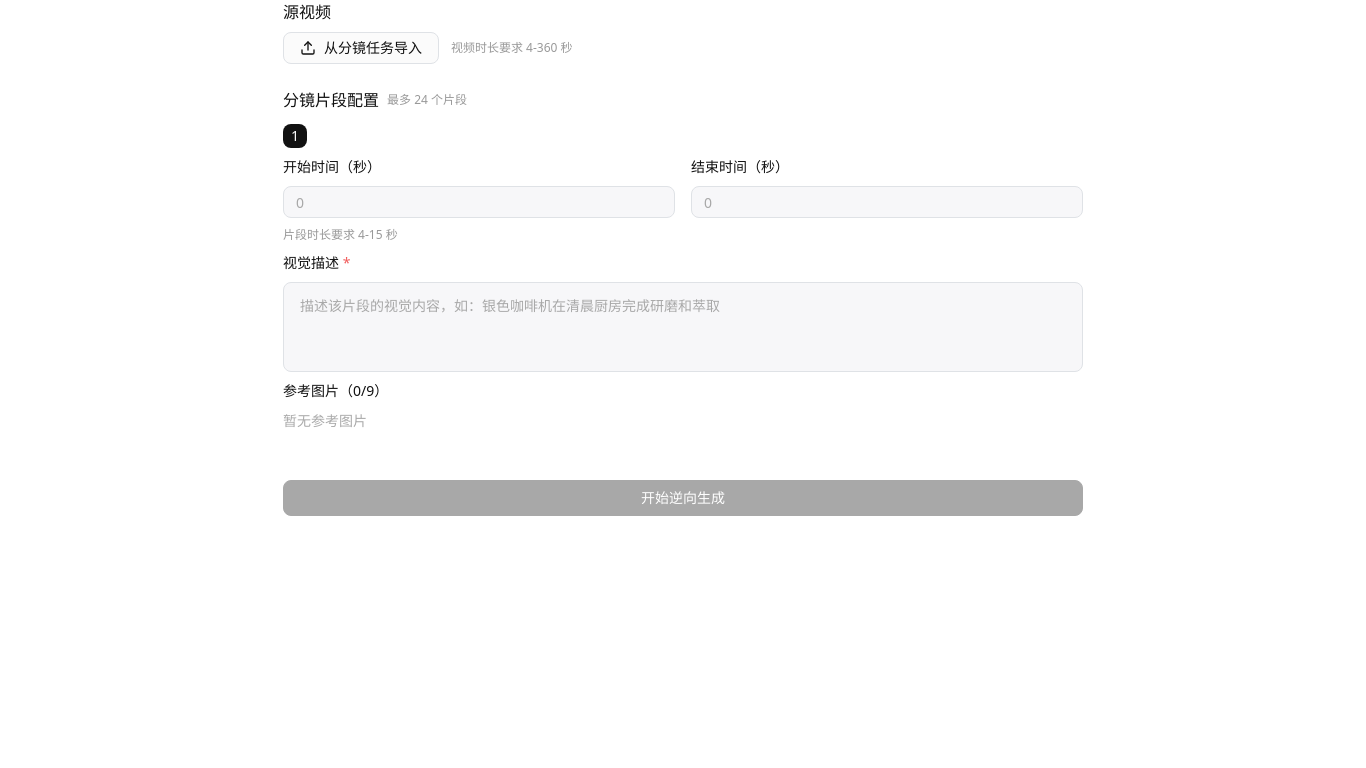
Test: video storyboard prototype › keeps generation unavailable until a storyboard is imported and preserves imported fields as read only
Expected: the button with test id "reverse-submit" is disabled, [283, 480, 1083, 516]
Submit the form, box [283, 1, 1083, 516]
Expected: the text box with test id "segment-description" is disabled, [283, 282, 1083, 372]
Click the button with test id "reverse-import-btn" at (361, 48), box [283, 32, 439, 64]
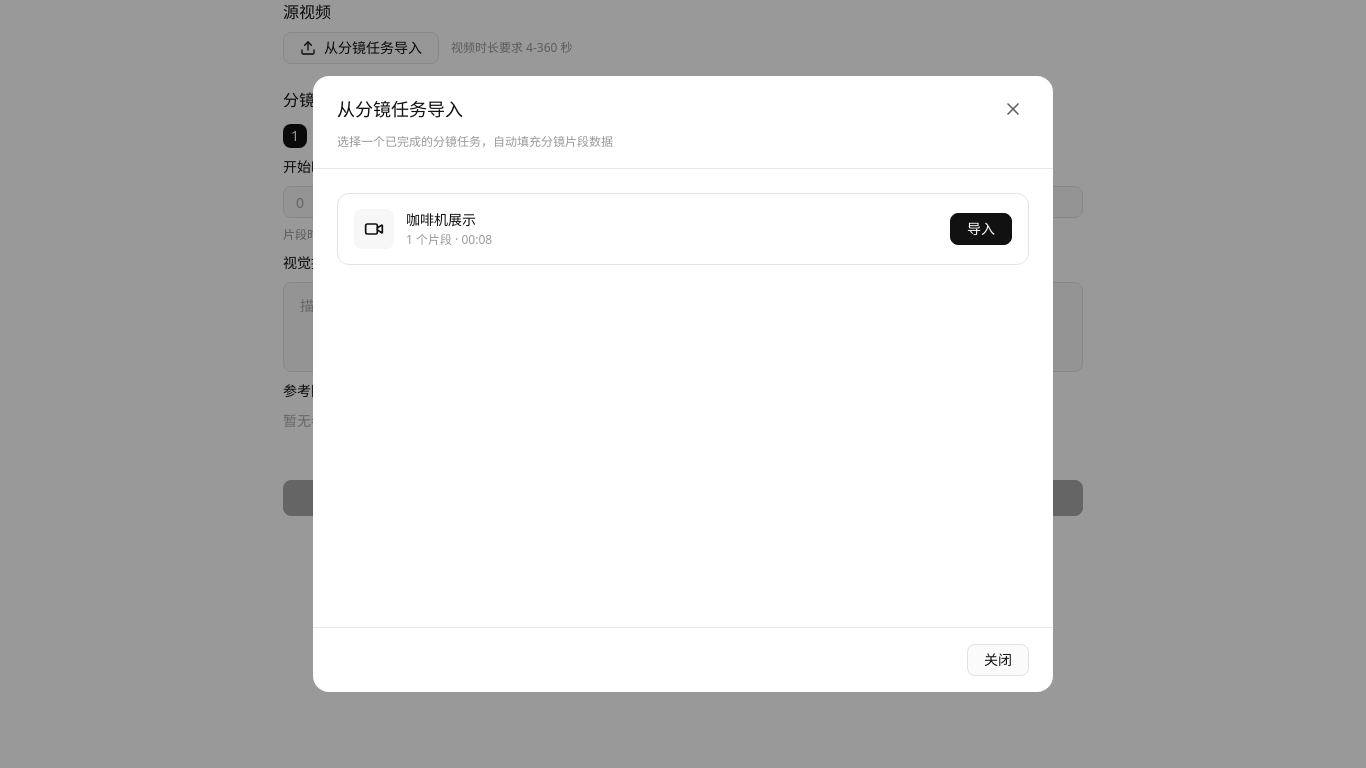
Click the button with test id "import-confirm" at (981, 229), box [950, 213, 1012, 245]
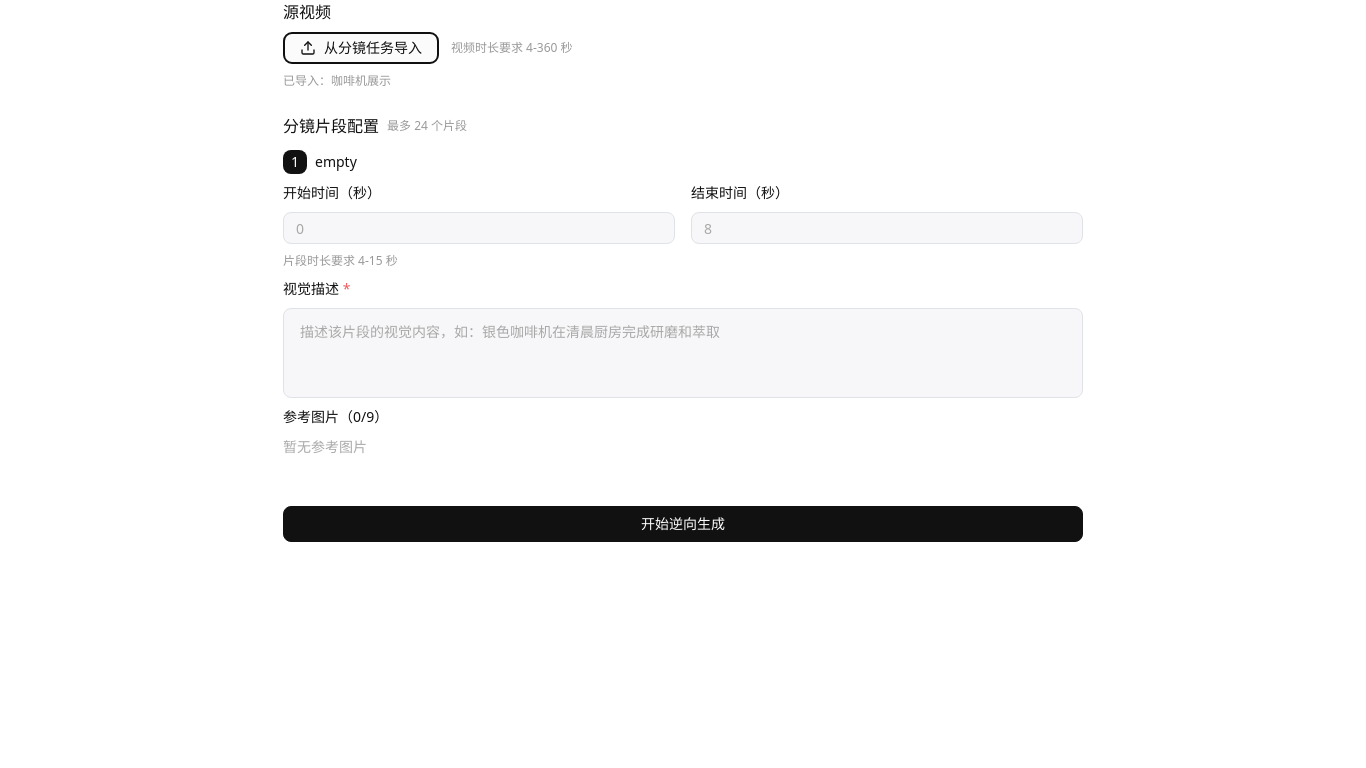
Submit the form, box [283, 1, 1083, 542]
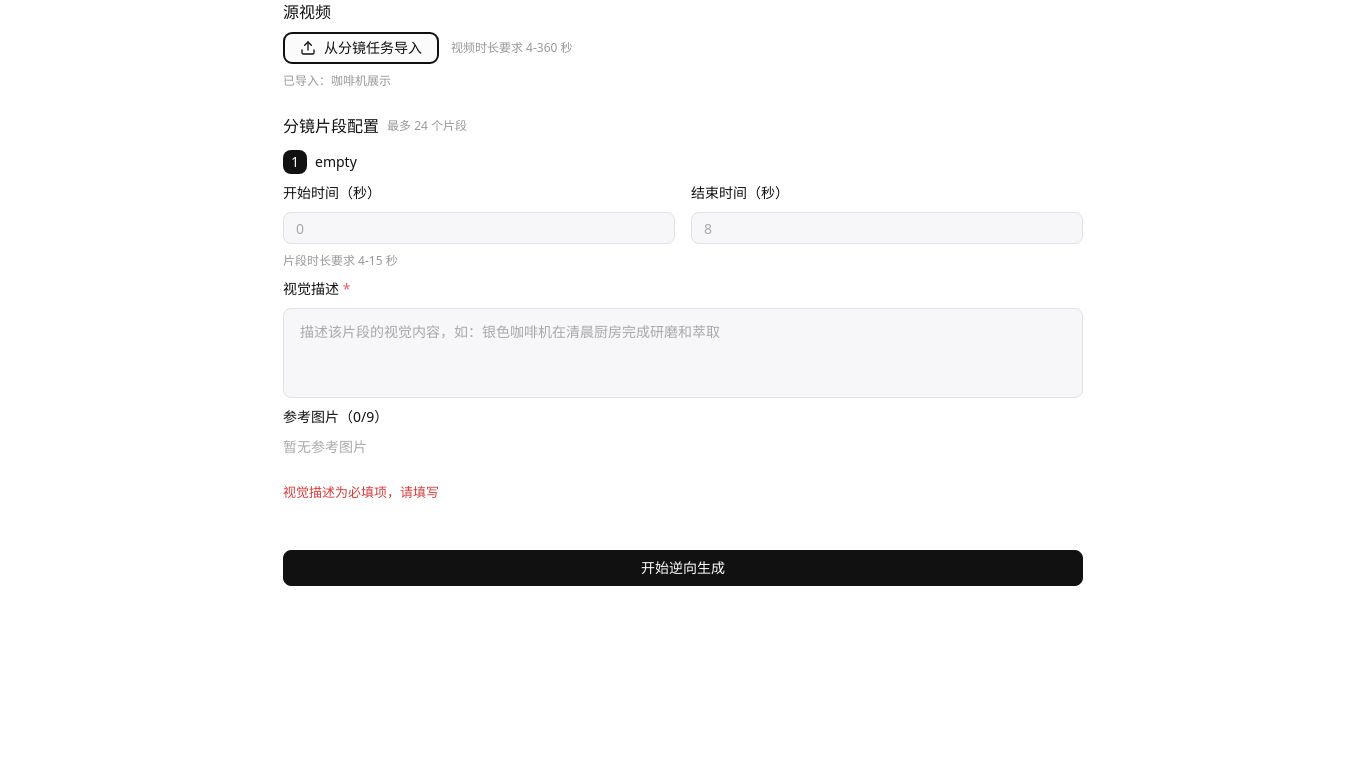
Now the message "视觉描述为必填项，请填写" is shown, box [283, 483, 439, 501]
